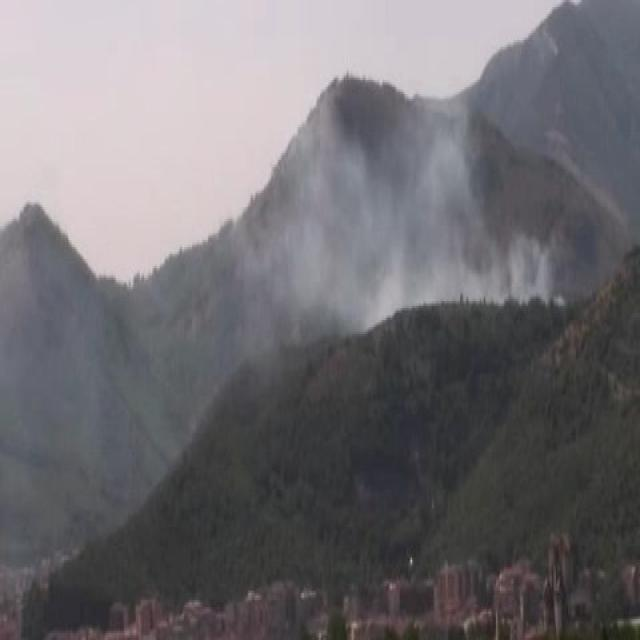Smoke: (286, 113, 542, 307)
